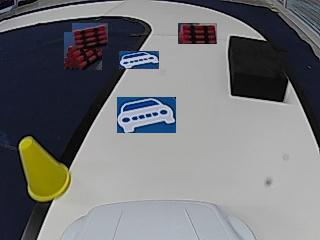block: (229, 36, 286, 101)
cone: (18, 135, 71, 200)
